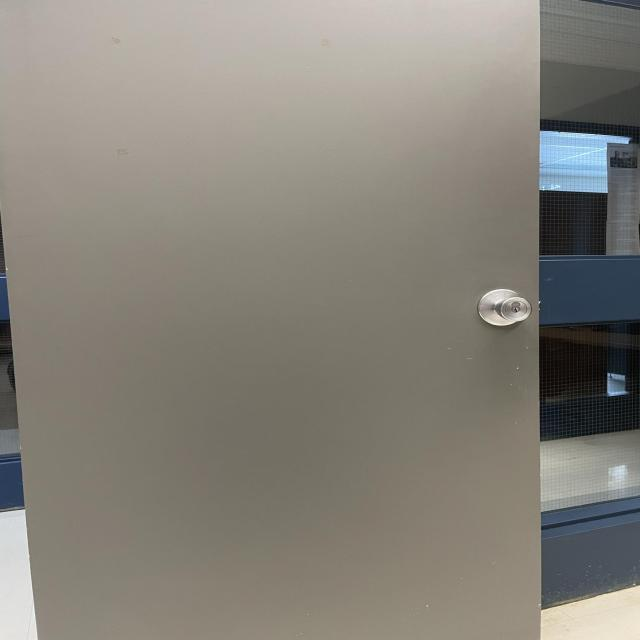door-knob: (478, 289, 532, 326)
